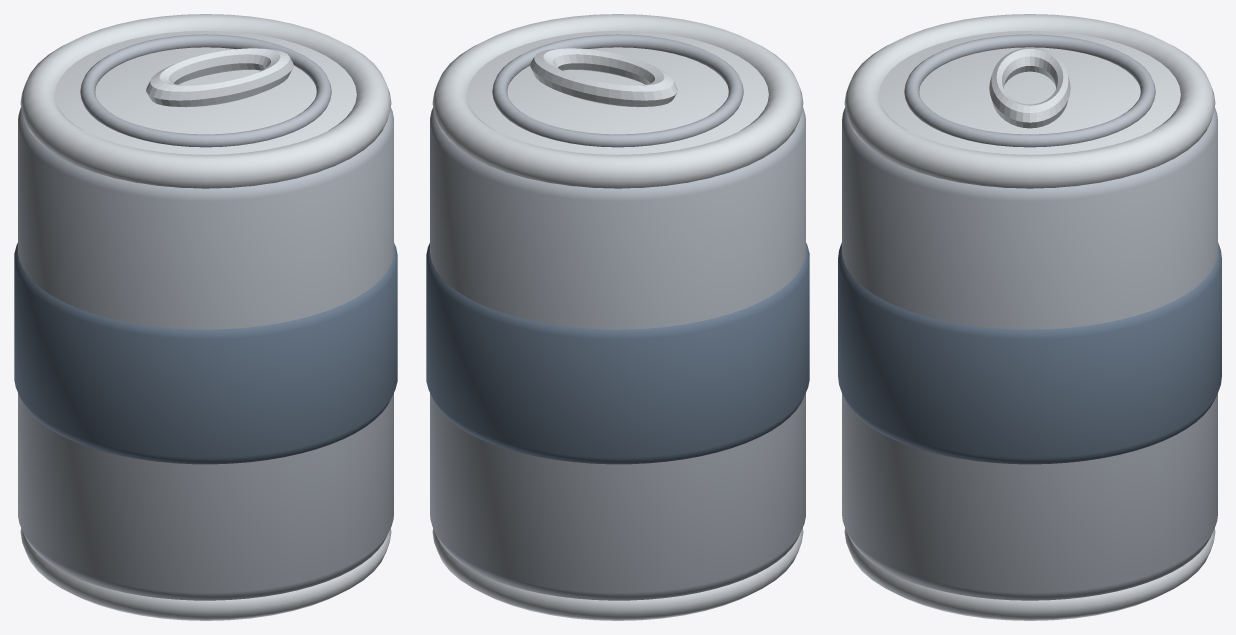
File: beverage-can.glb
The picture shows the model from 3 angles, left to right: view 1: azimuth 30°, elevation 25°; view 2: azimuth 150°, elevation 25°; view 3: azimuth 270°, elevation 25°; orthographic projection.
Visible parts, largest first — view 1: CanBody, CanBand, Rim_0.44, CanTop, TopGroove, Rim_-0.44, PullTab; view 2: CanBody, CanBand, Rim_0.44, CanTop, TopGroove, Rim_-0.44, PullTab; view 3: CanBody, CanBand, Rim_0.44, CanTop, TopGroove, Rim_-0.44, PullTab.
Boxes of the visible parts, x1,y1,x2,y2 form: CanBody: [18, 107, 393, 600]; CanBand: [14, 243, 397, 464]; Rim_0.44: [20, 14, 391, 188]; CanTop: [55, 30, 356, 154]; TopGroove: [80, 34, 331, 147]; Rim_-0.44: [20, 528, 391, 620]; PullTab: [146, 48, 293, 107]; CanBody: [430, 107, 805, 600]; CanBand: [426, 243, 809, 464]; Rim_0.44: [432, 14, 803, 188]; CanTop: [467, 30, 768, 154]; TopGroove: [492, 34, 743, 147]; Rim_-0.44: [432, 528, 803, 620]; PullTab: [530, 48, 677, 107]; CanBody: [842, 107, 1217, 600]; CanBand: [838, 242, 1221, 464]; Rim_0.44: [844, 14, 1215, 188]; CanTop: [879, 30, 1180, 154]; TopGroove: [904, 34, 1155, 147]; Rim_-0.44: [844, 528, 1215, 620]; PullTab: [989, 47, 1070, 128].
Size of the model in its own units: 0.714 by 0.9803 by 0.714.
